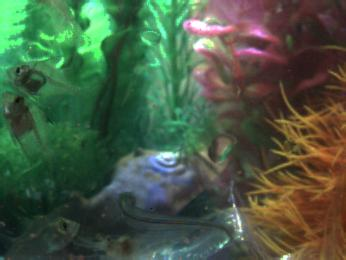X-ray fish: (4, 59, 90, 103), (2, 91, 51, 168), (3, 214, 82, 254)
glassfish: (116, 187, 249, 254)
siberian prawn: (83, 230, 176, 260)
